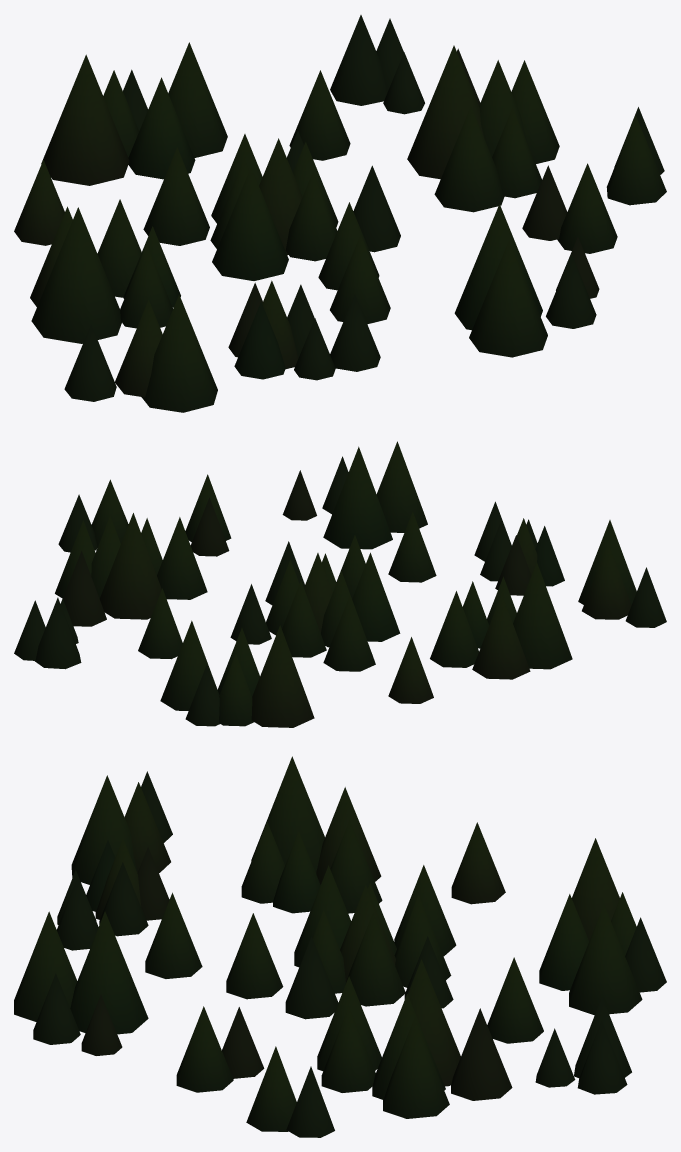
File: SM_PineForest001.fbx
The picture shows the model from 3 angles, top to bottom: view 1: azimuth 30°, elevation 25°; view 2: azimuth 150°, elevation 25°; view 3: azimuth 270°, elevation 25°; orthographic projection. The views are drawn at different scales.
Parts seen in each view (by area): view 1: SM_PineForest001; view 2: SM_PineForest001; view 3: SM_PineForest001.
Boxes of the visible parts, <box> form: SM_PineForest001: <box>14,15,666,412</box>; SM_PineForest001: <box>14,441,666,727</box>; SM_PineForest001: <box>14,756,666,1137</box>.
Size of the model in its own units: 187 by 33.15 by 163.
